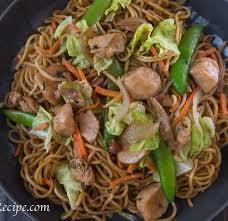pancit bihon: (10, 9, 228, 203)
